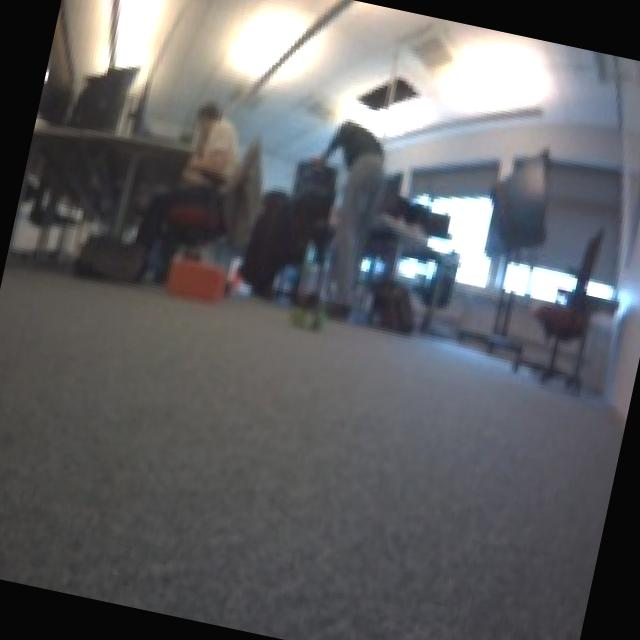robot: (282, 287, 334, 337)
target: (159, 250, 230, 305)
